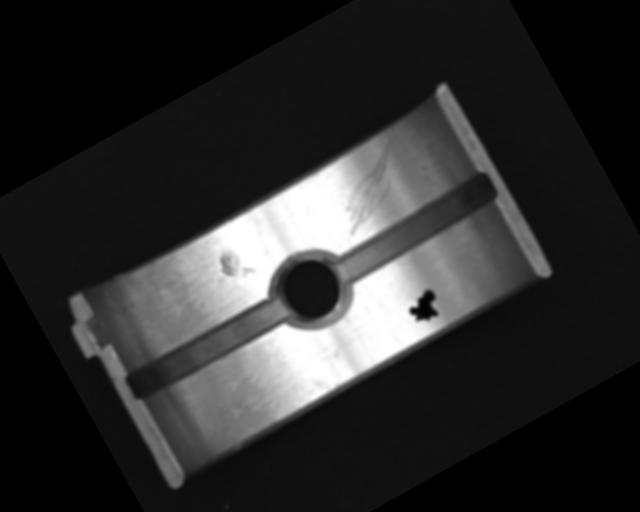blot: (402, 285, 445, 328)
bruise: (213, 244, 257, 288)
gap: (325, 169, 501, 288), (122, 291, 291, 403)
hole: (262, 239, 363, 341)
nick: (317, 134, 423, 236)
